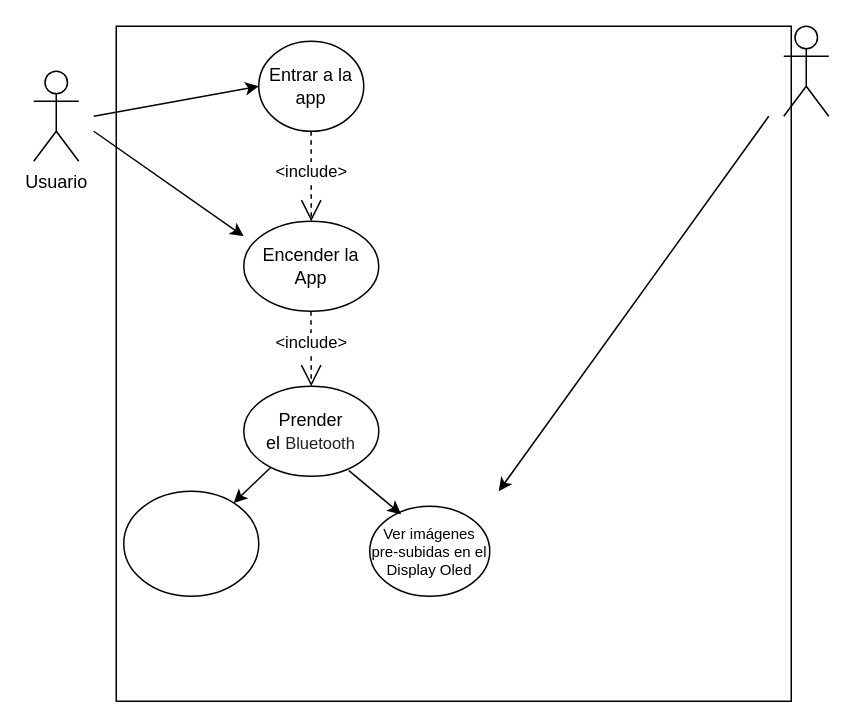
Some shapes in this 864 by 728 pixel diagram are drawn without their labels. Here are the shapes that lost their labels. From the top down, the centre of each, then its label:
the point at 805,70: BD APP
the point at 190,543: Subir tus propias imagenes al display-oled
